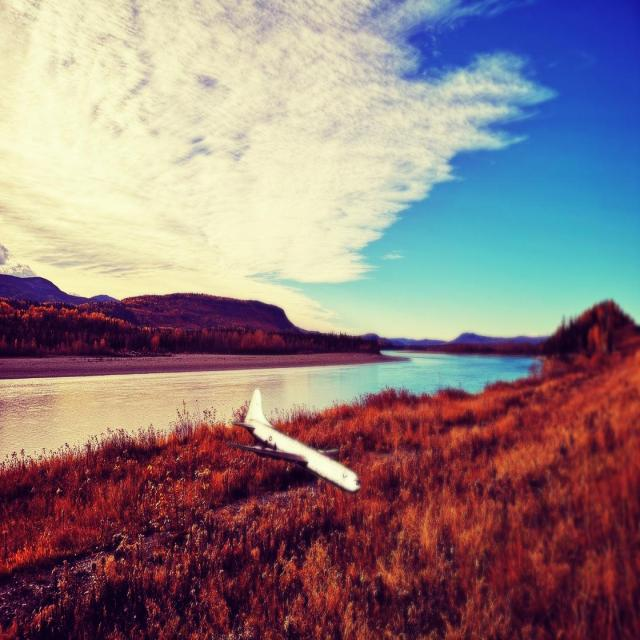airplane: (228, 387, 360, 494)
